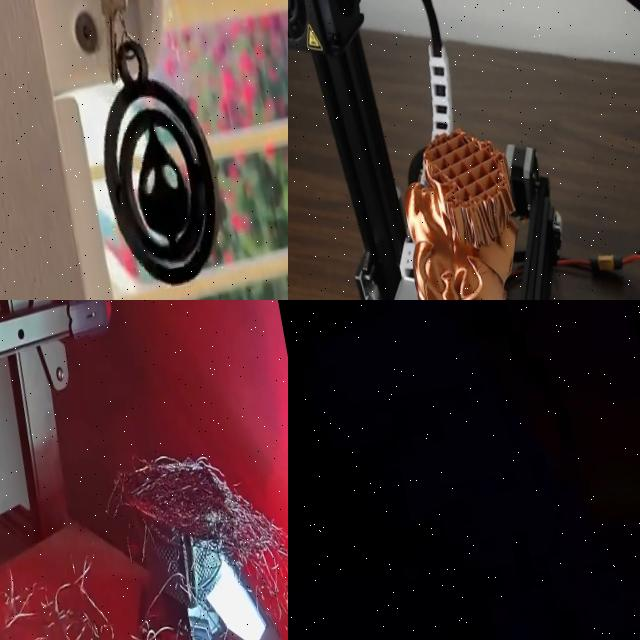spaghetti: (100, 454, 288, 640), (0, 541, 143, 640)
